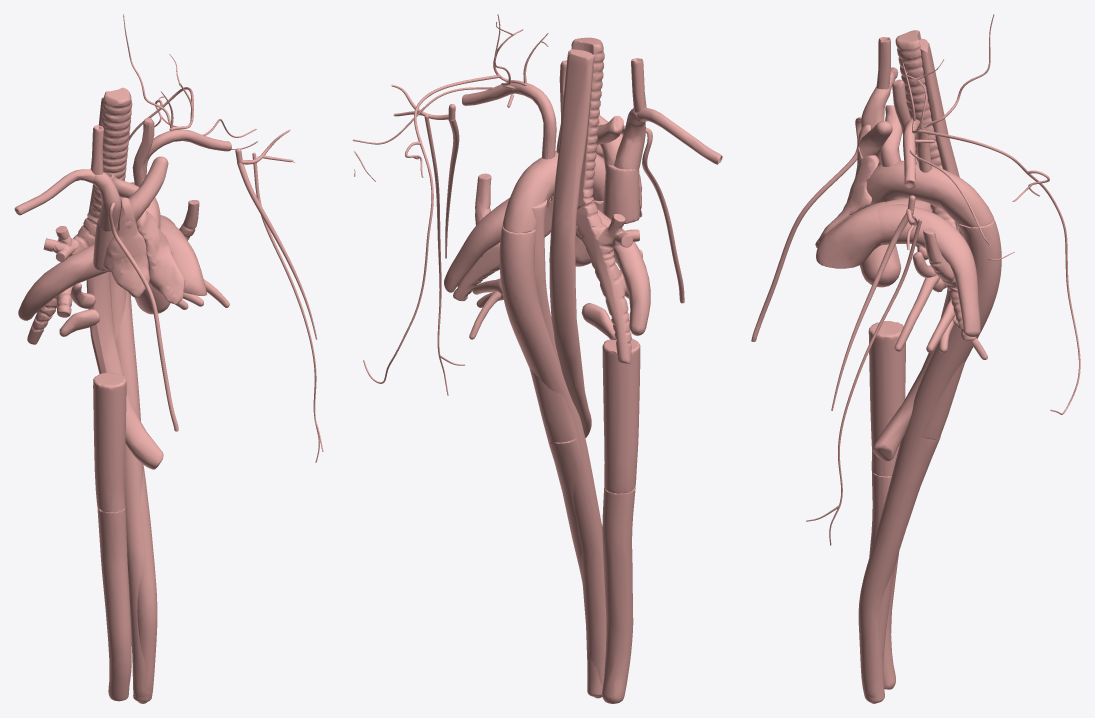
The model's file is mediastinum.glb.
3 renders of one model, left to right at view 1: azimuth 30°, elevation 25°; view 2: azimuth 150°, elevation 25°; view 3: azimuth 270°, elevation 25°, orthographic. The views are drawn at different scales.
Visible parts, largest first — view 1: inferior-vena-cava, descending-thoracic-aorta, thymus, left-subclavian-artery, oesophagus, right-brachiocephalic-vein, trachea, right-pulmonary-artery, right-main-bronchus, pulmonary-veins, pulmonary-trunk, left-brachiocephalic-vein (+4 smaller); view 2: descending-thoracic-aorta, inferior-vena-cava, oesophagus, left-subclavian-artery, right-main-bronchus, right-brachiocephalic-vein, arch-of-aorta, trachea, right-pulmonary-artery, left-pulmonary-artery, left-main-bronchus, superior-vena-cava (+1 smaller); view 3: descending-thoracic-aorta, left-subclavian-artery, inferior-vena-cava, left-pulmonary-artery, arch-of-aorta, oesophagus, right-brachiocephalic-vein, pulmonary-trunk, pulmonary-veins, trachea, thymus, left-main-bronchus (+4 smaller).
Part boxes in pixels (bbox=[...]): inferior-vena-cava: bbox=[93, 372, 131, 701]; descending-thoracic-aorta: bbox=[110, 272, 157, 703]; thymus: bbox=[103, 197, 185, 304]; left-subclavian-artery: bbox=[123, 14, 323, 462]; oesophagus: bbox=[86, 97, 163, 469]; right-brachiocephalic-vein: bbox=[14, 125, 178, 431]; trachea: bbox=[87, 87, 132, 222]; right-pulmonary-artery: bbox=[18, 225, 164, 320]; right-main-bronchus: bbox=[27, 215, 96, 344]; pulmonary-veins: bbox=[59, 279, 229, 336]; pulmonary-trunk: bbox=[160, 228, 206, 295]; left-brachiocephalic-vein: bbox=[115, 156, 168, 230]; descending-thoracic-aorta: bbox=[499, 200, 606, 698]; inferior-vena-cava: bbox=[602, 338, 640, 703]; oesophagus: bbox=[549, 49, 594, 437]; left-subclavian-artery: bbox=[352, 14, 556, 395]; right-main-bronchus: bbox=[576, 199, 639, 363]; right-brachiocephalic-vein: bbox=[614, 58, 722, 303]; arch-of-aorta: bbox=[503, 150, 605, 233]; trachea: bbox=[552, 37, 604, 209]; right-pulmonary-artery: bbox=[551, 196, 650, 335]; left-pulmonary-artery: bbox=[444, 198, 550, 292]; left-main-bronchus: bbox=[453, 173, 553, 301]; superior-vena-cava: bbox=[602, 165, 639, 223]; descending-thoracic-aorta: bbox=[858, 219, 1001, 703]; left-subclavian-artery: bbox=[806, 14, 1080, 545]; inferior-vena-cava: bbox=[868, 321, 905, 689]; left-pulmonary-artery: bbox=[877, 204, 980, 336]; arch-of-aorta: bbox=[866, 160, 993, 227]; oesophagus: bbox=[872, 38, 959, 461]; right-brachiocephalic-vein: bbox=[751, 37, 898, 341]; pulmonary-trunk: bbox=[816, 201, 884, 268]; pulmonary-veins: bbox=[894, 245, 987, 359]; trachea: bbox=[895, 30, 942, 168]; thymus: bbox=[815, 124, 879, 247]; left-main-bronchus: bbox=[923, 204, 975, 340].
Bounding box in the file's own units: 0.8925 × 1.9 × 0.8009.
